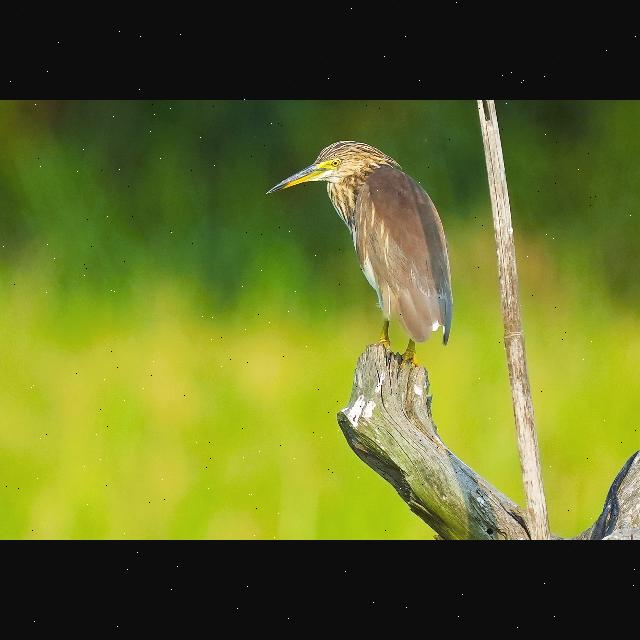heron: (268, 142, 452, 354)
